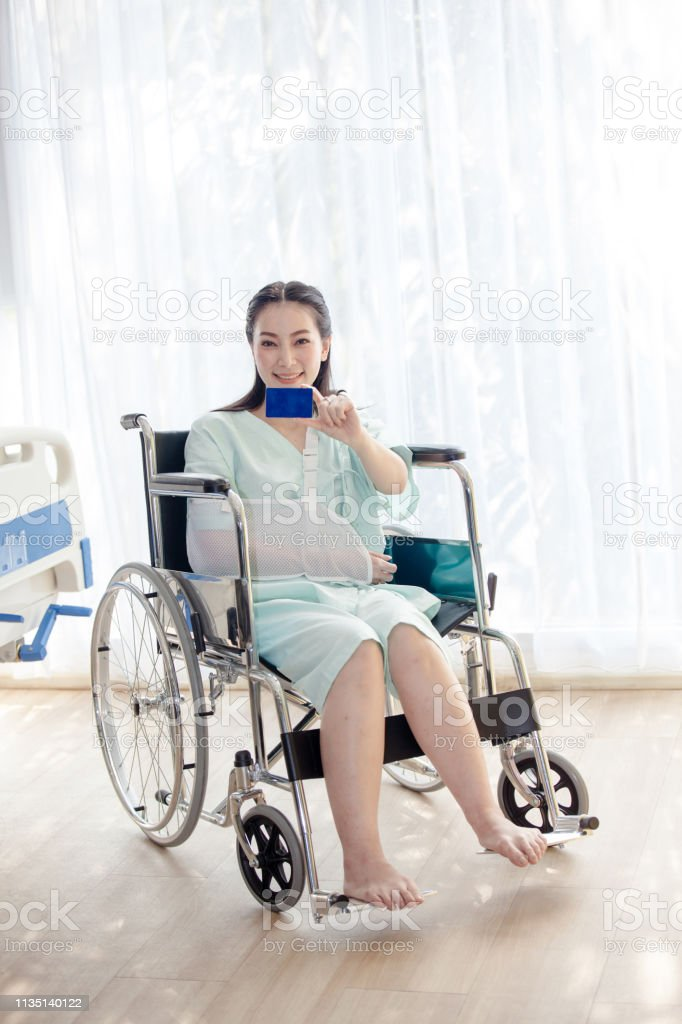wheelchair: (85, 283, 599, 927)
